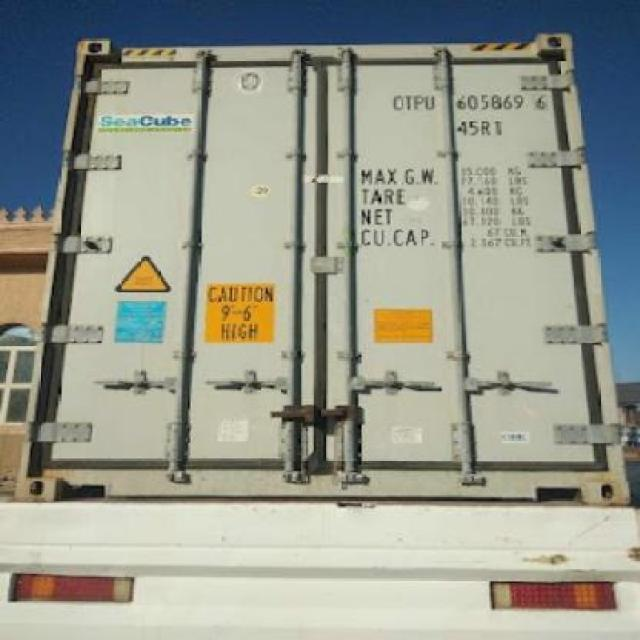ISO: (458, 114, 505, 136)
container_number: (394, 91, 549, 114)
